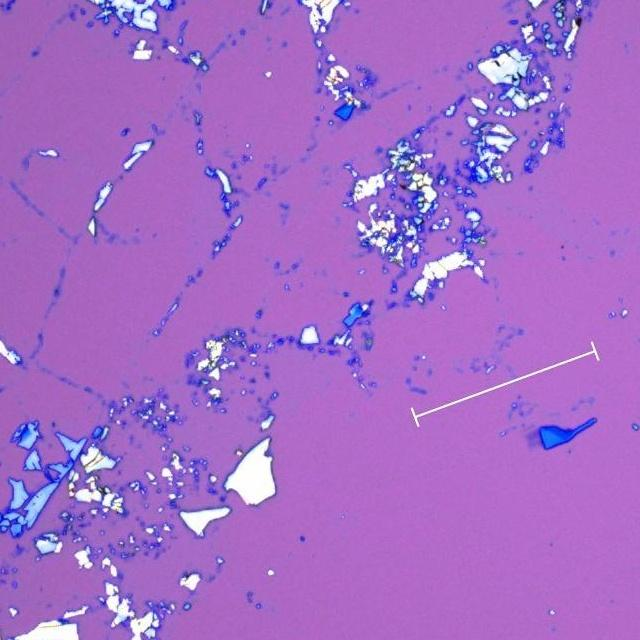monolayer-eWW4: (525, 428, 544, 450)
